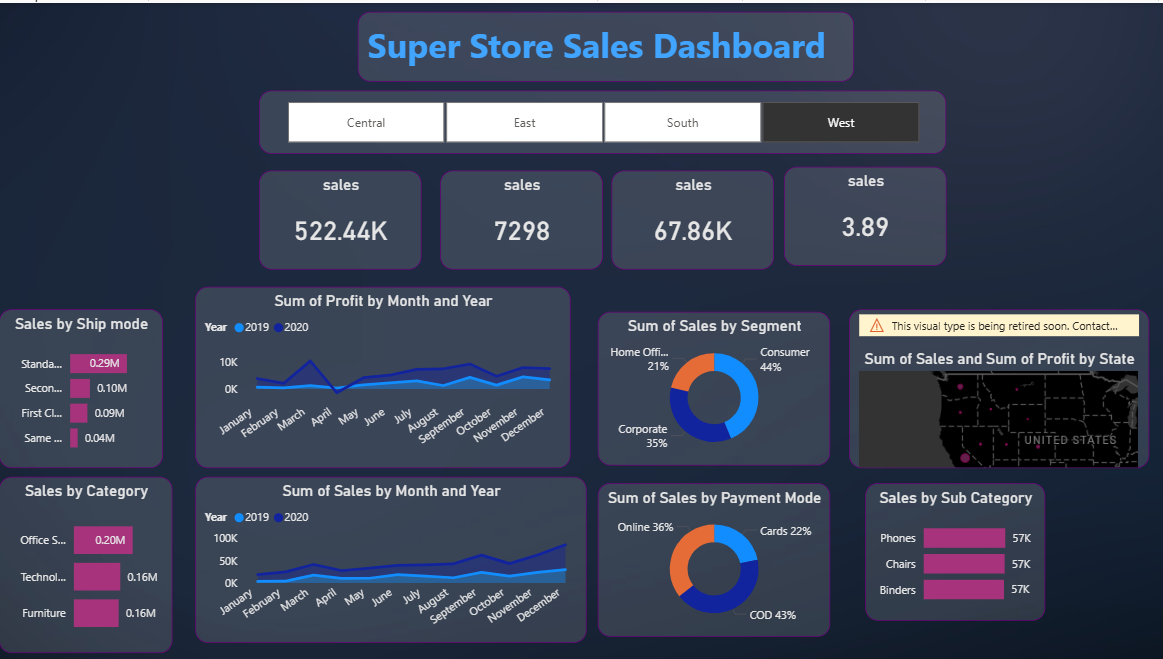

The page's visual inventory and layout, read from the dashboard file:
{"tool":"powerbi","page":{"name":"Page 1","canvas":[1280,720],"ordinal":0},"visuals":[{"type":"clusteredBarChart","title":"Sales by Category","fields":{"Category":["SuperStore_Sales_Dataset.Category"],"Y":["Sum(SuperStore_Sales_Dataset.Sales)"]},"box":[0,520.1,190.7,193.5],"z":0},{"type":"clusteredBarChart","title":"Sales by Sub Category","fields":{"Category":["SuperStore_Sales_Dataset.Sub-Category"],"Y":["Sum(SuperStore_Sales_Dataset.Sales)"]},"box":[950.9,526.9,197.6,150.9],"z":1000},{"type":"clusteredBarChart","title":"Sales by Ship mode","fields":{"Category":["SuperStore_Sales_Dataset.Ship Mode"],"Y":["Sum(SuperStore_Sales_Dataset.Sales)"]},"box":[0,336.2,179.8,174.3],"z":2000},{"type":"stackedAreaChart","fields":{"Category":["SuperStore_Sales_Dataset.Order Date.Variation.Date Hierarchy.Month","SuperStore_Sales_Dataset.Order Date.Variation.Date Hierarchy.Day"],"Y":["Sum(SuperStore_Sales_Dataset.Sales)"],"Series":["SuperStore_Sales_Dataset.Order Date.Variation.Date Hierarchy.Year"]},"box":[215.4,520.1,429.5,182.5],"z":3000},{"type":"stackedAreaChart","fields":{"Category":["SuperStore_Sales_Dataset.Order Date.Variation.Date Hierarchy.Month","SuperStore_Sales_Dataset.Order Date.Variation.Date Hierarchy.Day"],"Series":["SuperStore_Sales_Dataset.Order Date.Variation.Date Hierarchy.Year"],"Y":["Sum(SuperStore_Sales_Dataset.Profit)"]},"box":[215.4,311.5,411.7,199],"z":4000},{"type":"map","fields":{"Category":["SuperStore_Sales_Dataset.State"],"Size":["Sum(SuperStore_Sales_Dataset.Sales)"]},"box":[933.1,336.2,329.3,171.5],"z":5000},{"type":"donutChart","fields":{"Category":["SuperStore_Sales_Dataset.Segment"],"Y":["Sum(SuperStore_Sales_Dataset.Sales)"]},"box":[657.3,338.9,255.2,168.8],"z":6000},{"type":"slicer","fields":{"Values":["SuperStore_Sales_Dataset.Region"]},"box":[285.4,96.1,754.7,70],"z":7000},{"type":"textbox","box":[393.8,9.6,544.8,76.8],"z":8000},{"type":"card","title":"sales","fields":{"Values":["Sum(SuperStore_Sales_Dataset.Sales)"]},"box":[285.4,183.9,178.4,108.4],"z":9000},{"type":"card","title":"sales","fields":{"Values":["Avg(SuperStore_Sales_Dataset.AvgDelievery)"]},"box":[861.8,179.8,178.4,108.4],"z":9001},{"type":"card","title":"sales","fields":{"Values":["Sum(SuperStore_Sales_Dataset.Profit)"]},"box":[672.4,183.9,178.4,108.4],"z":9002},{"type":"card","title":"sales","fields":{"Values":["Sum(SuperStore_Sales_Dataset.Quantity)"]},"box":[484.4,183.9,178.4,108.4],"z":9003},{"type":"donutChart","fields":{"Y":["Sum(SuperStore_Sales_Dataset.Sales)"],"Series":["SuperStore_Sales_Dataset.Payment Mode"]},"box":[657.3,526.9,255.2,168.8],"z":9004}]}

Visuals, with their boxes in screenshot pixels (x1, y1, x2, y2), scaled from the page's 1280x720 canvas onto the 1163x659 screenshot:
"Sales by Category" clusteredBarChart: l=0, t=476, r=173, b=653
"Sales by Sub Category" clusteredBarChart: l=864, t=482, r=1044, b=620
"Sales by Ship mode" clusteredBarChart: l=0, t=308, r=163, b=467
stackedAreaChart - SuperStore_Sales_Dataset.Order Date.Variation.Date Hierarchy.Month x SuperStore_Sales_Dataset.Order Date.Variation.Date Hierarchy.Day: l=196, t=476, r=586, b=643
stackedAreaChart - SuperStore_Sales_Dataset.Order Date.Variation.Date Hierarchy.Month x SuperStore_Sales_Dataset.Order Date.Variation.Date Hierarchy.Day: l=196, t=285, r=570, b=467
map - SuperStore_Sales_Dataset.State x Sum(SuperStore_Sales_Dataset.Sales): l=848, t=308, r=1147, b=465
donutChart - SuperStore_Sales_Dataset.Segment x Sum(SuperStore_Sales_Dataset.Sales): l=597, t=310, r=829, b=465
slicer - SuperStore_Sales_Dataset.Region: l=259, t=88, r=945, b=152
textbox: l=358, t=9, r=853, b=79
"sales" card: l=259, t=168, r=421, b=268
"sales" card: l=783, t=165, r=945, b=264
"sales" card: l=611, t=168, r=773, b=268
"sales" card: l=440, t=168, r=602, b=268
donutChart - Sum(SuperStore_Sales_Dataset.Sales) x SuperStore_Sales_Dataset.Payment Mode: l=597, t=482, r=829, b=637
